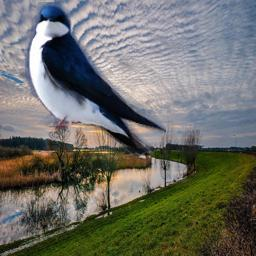Swallow: (25, 2, 166, 156)
